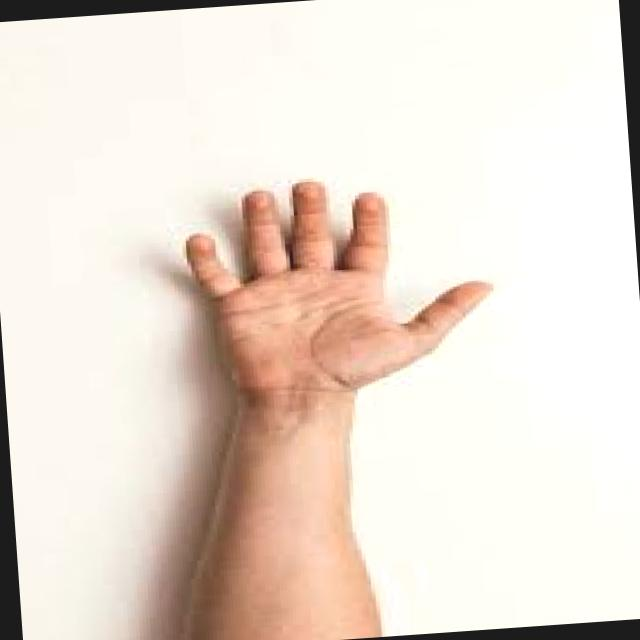Hand: (170, 158, 503, 408)
